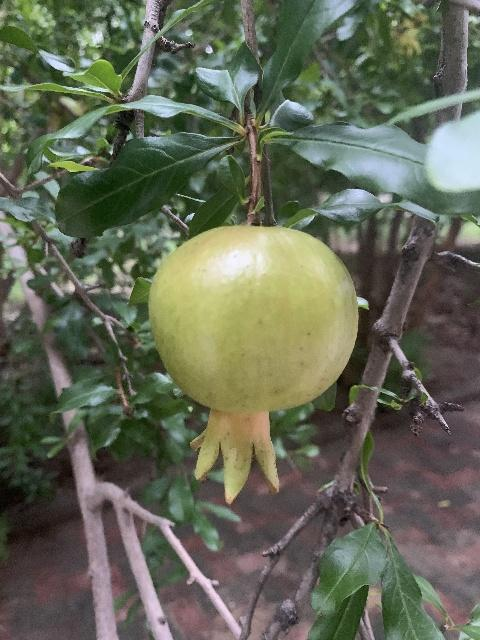mid-growth: (149, 224, 359, 504)
